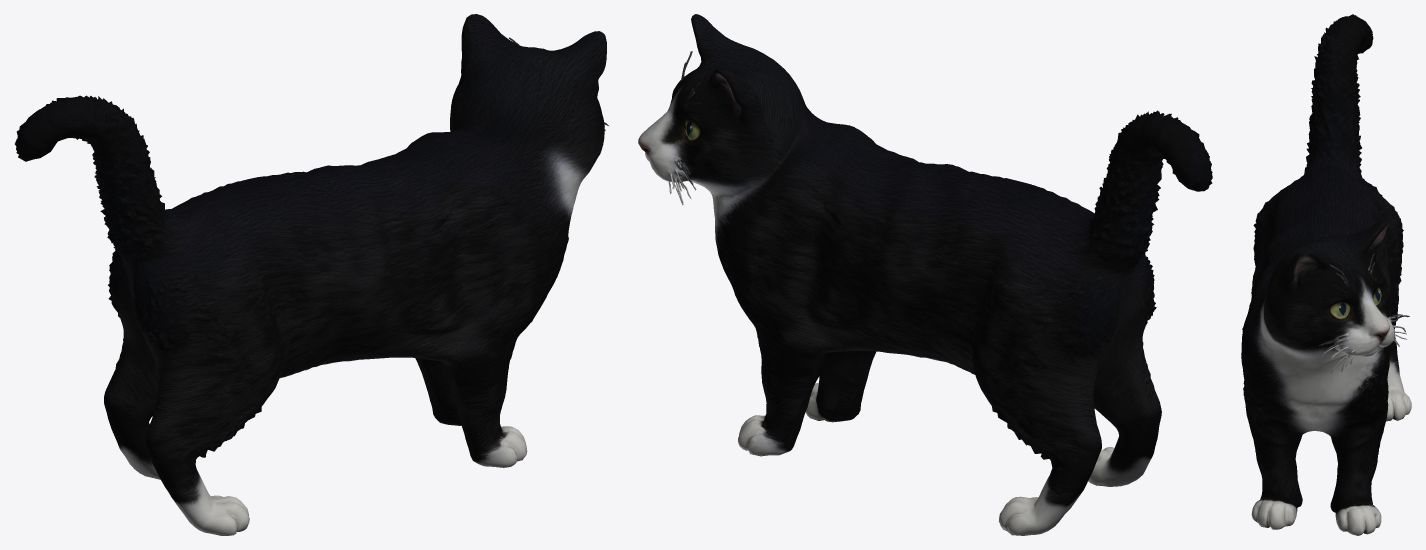
Rendered from cat-standing-tail-up.glb.
The picture shows the model from 3 angles, left to right: view 1: azimuth 30°, elevation 25°; view 2: azimuth 150°, elevation 25°; view 3: azimuth 270°, elevation 25°; orthographic projection. The views are drawn at different scales.
Visible parts, largest first — view 1: tripo_node_e8f4658e-df3f-4f7a-98b2-367686bdab96; view 2: tripo_node_e8f4658e-df3f-4f7a-98b2-367686bdab96; view 3: tripo_node_e8f4658e-df3f-4f7a-98b2-367686bdab96.
Boxes of the visible parts, box(x1,y1,x2,y2) form: tripo_node_e8f4658e-df3f-4f7a-98b2-367686bdab96: box(15, 14, 608, 535); tripo_node_e8f4658e-df3f-4f7a-98b2-367686bdab96: box(638, 14, 1212, 535); tripo_node_e8f4658e-df3f-4f7a-98b2-367686bdab96: box(1241, 14, 1411, 535).
Size of the model in its own units: 0.4204 by 0.3 by 0.1322.
Materials: 1 (1 with a texture image).
